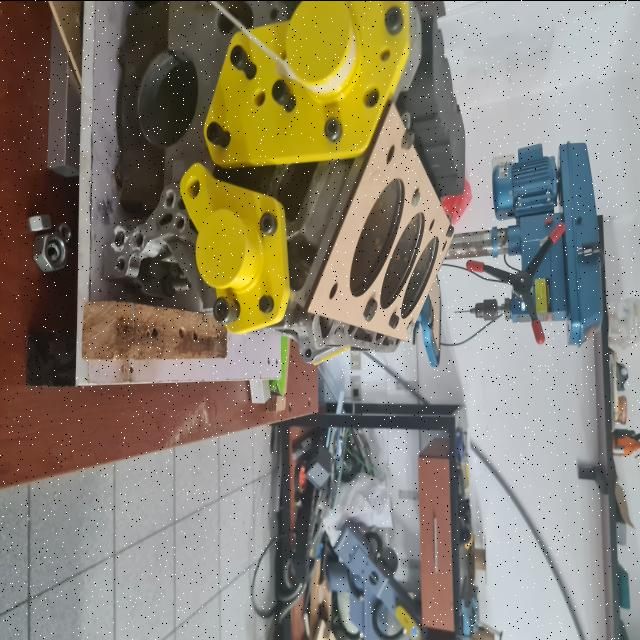vista1: (308, 105, 455, 341)
